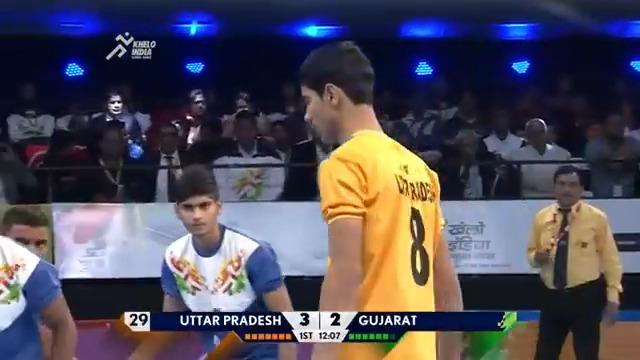Player: (120, 163, 299, 359), (0, 233, 78, 359)
Raider: (296, 39, 465, 358)
referee: (525, 163, 624, 358)
